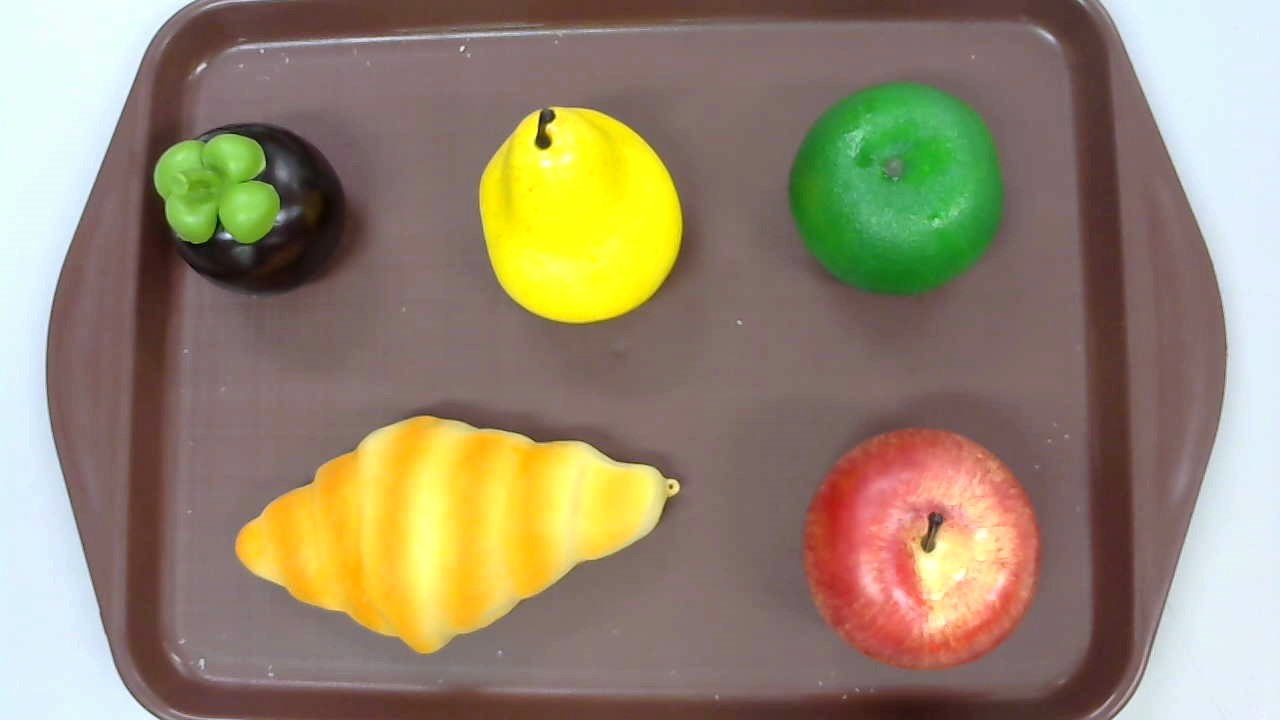croissant: (234, 416, 680, 654)
green orange: (788, 80, 1003, 294)
mangosteen: (152, 124, 346, 297)
red apple: (802, 428, 1040, 673)
yellow pear: (478, 105, 684, 325)
